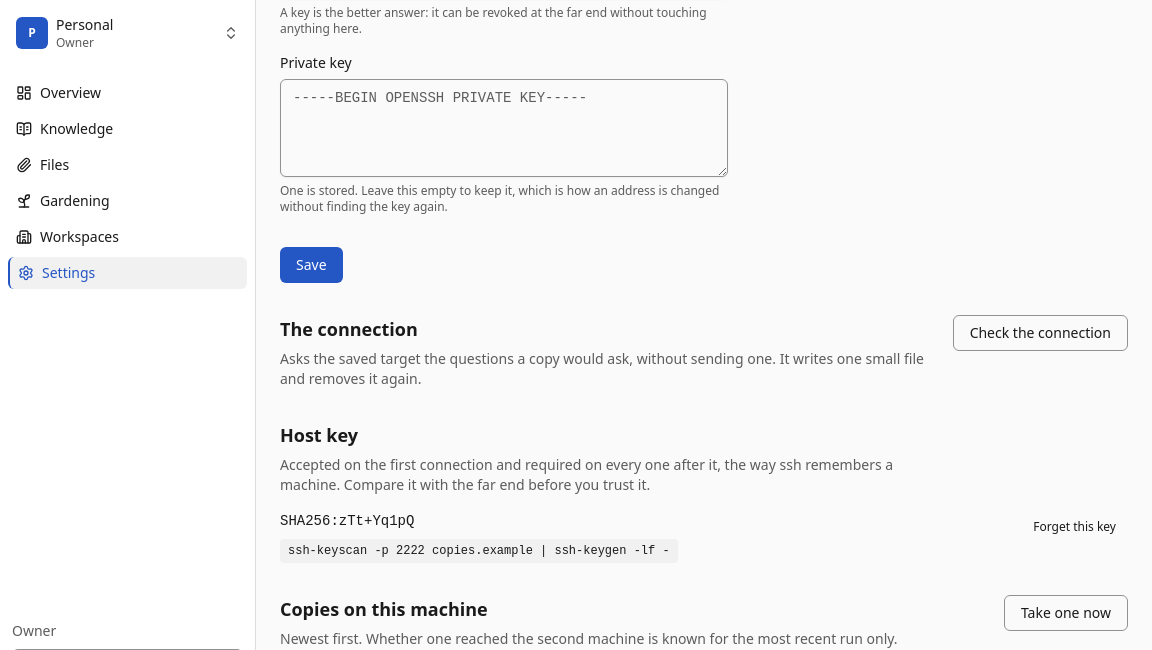
Test: asking the target whether a copy would arrive › says which stage it stopped at, and shows the reason
(page scrolled)
Click the button "Check the connection". click: [1040, 333]
box: x1=953 y1=315 x2=1128 y2=351
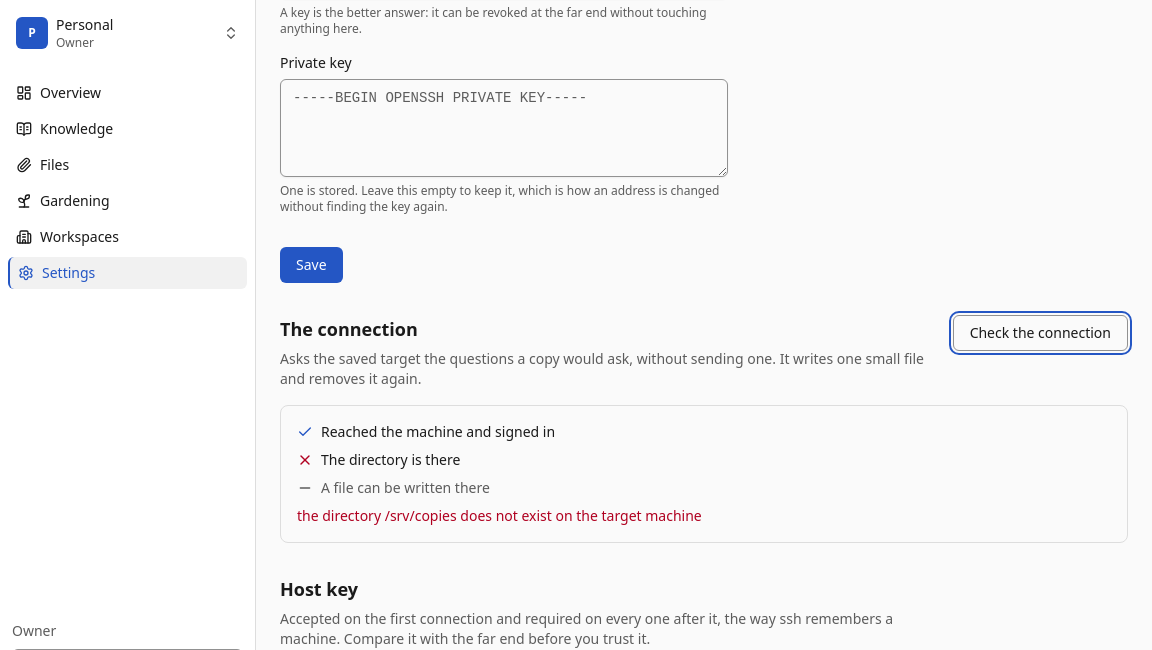
Now the text "does not exist on the target machine" is shown, box x1=297 y1=506 x2=702 y2=525
